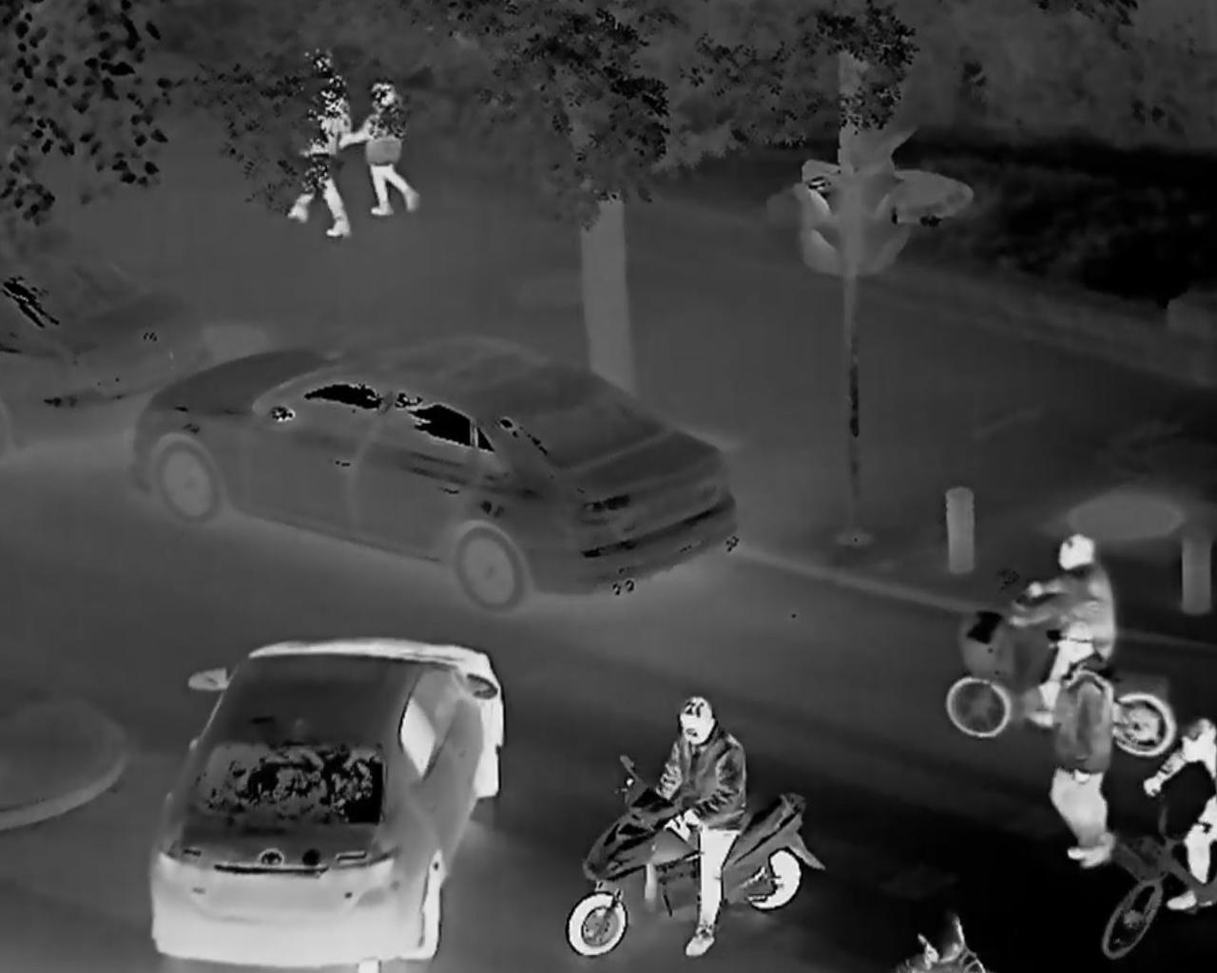person: (654, 693, 753, 960), (1010, 527, 1111, 696), (1059, 634, 1121, 873), (289, 43, 358, 238), (1159, 693, 1217, 916), (360, 77, 415, 223)
